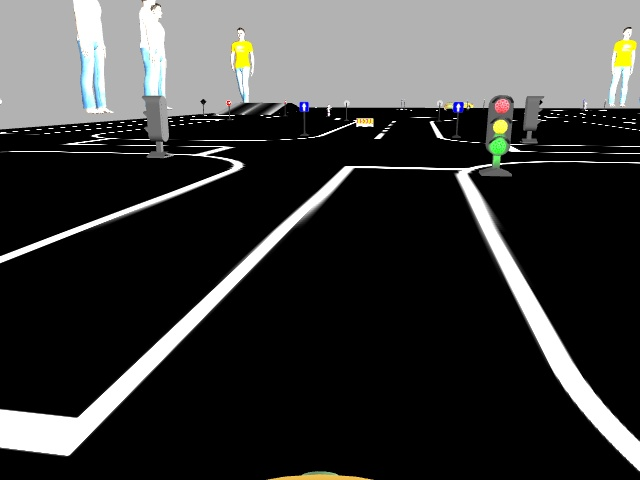ClosedRoadStand: (355, 117, 372, 127)
OneWay: (453, 100, 462, 112), (299, 101, 307, 111)
TrafficLight: (486, 94, 513, 154)
